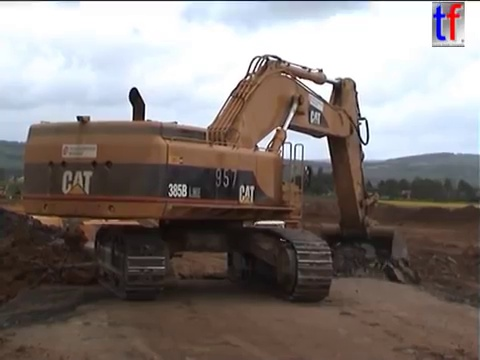excavator: (19, 51, 423, 307)
truck: (1, 208, 137, 328), (73, 213, 170, 297)
